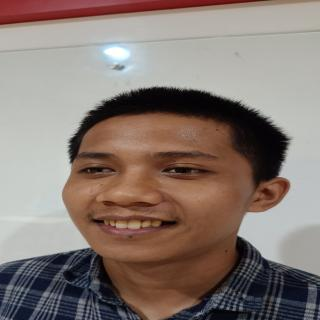Senang: (53, 108, 279, 275)
